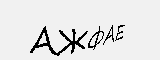А: (28, 25, 57, 60), (104, 24, 115, 45)
Е: (115, 24, 127, 41)
Ж: (57, 25, 88, 56)
Ф: (88, 25, 104, 52)
